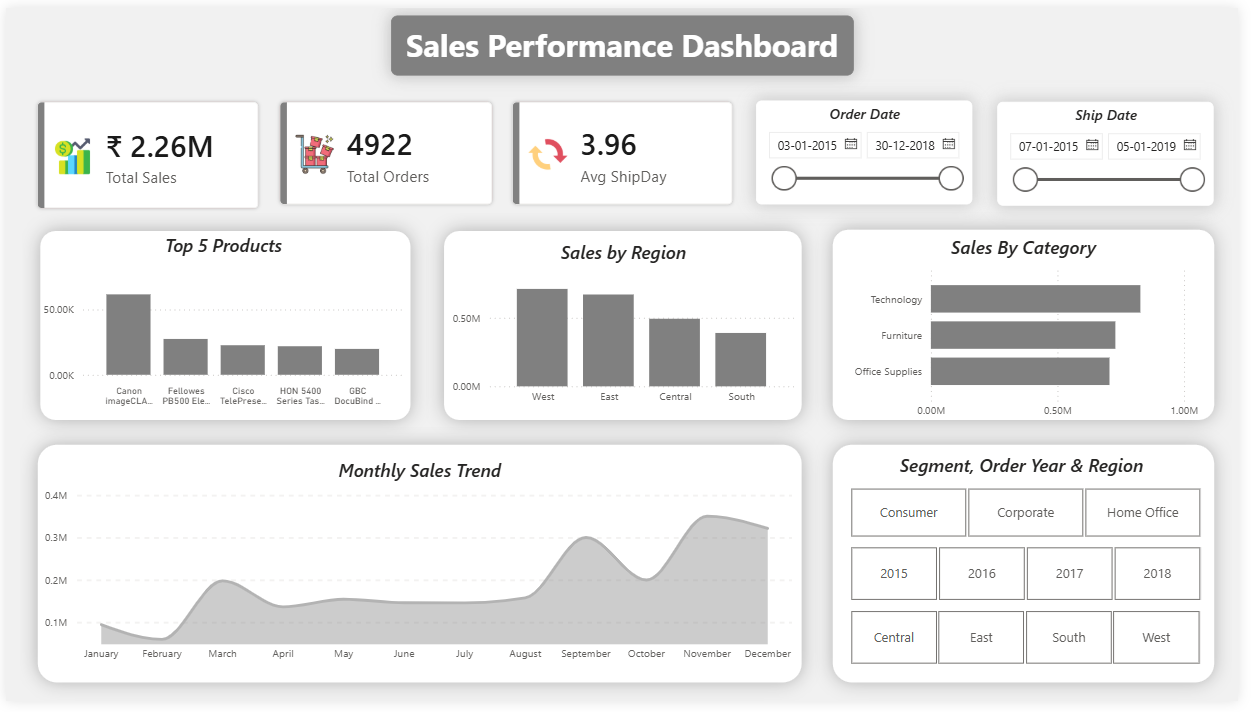

Layout of this report page (visuals, bound fields, positions):
{"tool":"powerbi","page":{"name":"Page 1","canvas":[1280,720],"ordinal":0},"visuals":[{"type":"cardVisual","fields":{"Data":["Superstor_Cleaned_Task1.Total Sales"]},"box":[9.1,74,277.9,158.4],"z":0},{"type":"textbox","box":[400,7.8,480.5,62.3],"z":1000},{"type":"cardVisual","fields":{"Data":["Superstor_Cleaned_Task1.Total Orders"]},"box":[261,74,268.8,154.5],"z":2000},{"type":"cardVisual","fields":{"Data":["Superstor_Cleaned_Task1.Avg ShipDay"]},"box":[502.6,74,276.6,154.5],"z":3000},{"type":"shape","box":[840.3,211.7,433.8,235.1],"z":4000},{"type":"slicer","title":"Order Date","fields":{"Values":["Superstor_Cleaned_Task1.Order Date"]},"box":[779.2,96.1,224.7,107.8],"z":5000},{"type":"slicer","title":"Ship Date","fields":{"Values":["Superstor_Cleaned_Task1.Ship Date"]},"box":[1029.9,97.4,224.7,107.8],"z":6000},{"type":"shape","box":[436.4,213,409.1,233.8],"z":7000},{"type":"shape","box":[16.9,213,422.1,233.8],"z":8000},{"type":"clusteredBarChart","title":"Sales By Category","fields":{"Category":["Superstor_Cleaned_Task1.Category"],"Y":["Sum(Superstor_Cleaned_Task1.Sales)"]},"box":[870.1,227.3,374,214.3],"z":9000},{"type":"shape","box":[14.3,435.1,831.2,284.4],"z":10000},{"type":"columnChart","title":"Sales by Region","fields":{"Category":["Superstor_Cleaned_Task1.Region"],"Y":["Sum(Superstor_Cleaned_Task1.Sales)"]},"box":[458.4,232.5,366.2,194.8],"z":11000},{"type":"columnChart","title":"Top 5 Products","fields":{"Category":["Superstor_Cleaned_Task1.Product Name"],"Y":["Sum(Superstor_Cleaned_Task1.Sales)"]},"box":[33.8,226,384.4,201.3],"z":12000},{"type":"lineChart","title":"Monthly Sales Trend","fields":{"Y":["Sum(Superstor_Cleaned_Task1.Sales)"],"Category":["Superstor_Cleaned_Task1.Order Date.Variation.Date Hierarchy.Month"]},"box":[35.1,461,789.6,231.2],"z":13000},{"type":"shape","box":[840.3,435.1,433.8,284.4],"z":14000},{"type":"slicer","fields":{"Values":["Superstor_Cleaned_Task1.Segment"]},"box":[851.9,492.2,413,63.6],"z":15000},{"type":"slicer","fields":{"Values":["Superstor_Cleaned_Task1.Order Year"]},"box":[851.9,553.2,413,68.8],"z":16000},{"type":"slicer","fields":{"Values":["Superstor_Cleaned_Task1.Region"]},"box":[851.9,619.5,411.7,68.8],"z":17000},{"type":"textbox","box":[914.3,457.1,281.8,35.1],"z":18000}]}

Visuals, with their boxes in screenshot pixels (x1, y1, x2, y2), scaled from the page's 1280x720 canvas onto the 1260x712 screenshot:
cardVisual - Superstor_Cleaned_Task1.Total Sales: box=[9, 73, 283, 230]
textbox: box=[394, 8, 867, 69]
cardVisual - Superstor_Cleaned_Task1.Total Orders: box=[257, 73, 522, 226]
cardVisual - Superstor_Cleaned_Task1.Avg ShipDay: box=[495, 73, 767, 226]
shape: box=[827, 209, 1254, 442]
"Order Date" slicer: box=[767, 95, 988, 202]
"Ship Date" slicer: box=[1014, 96, 1235, 203]
shape: box=[430, 211, 832, 442]
shape: box=[17, 211, 432, 442]
"Sales By Category" clusteredBarChart: box=[857, 225, 1225, 437]
shape: box=[14, 430, 832, 711]
"Sales by Region" columnChart: box=[451, 230, 812, 423]
"Top 5 Products" columnChart: box=[33, 223, 412, 423]
"Monthly Sales Trend" lineChart: box=[35, 456, 812, 685]
shape: box=[827, 430, 1254, 711]
slicer - Superstor_Cleaned_Task1.Segment: box=[839, 487, 1245, 550]
slicer - Superstor_Cleaned_Task1.Order Year: box=[839, 547, 1245, 615]
slicer - Superstor_Cleaned_Task1.Region: box=[839, 613, 1244, 681]
textbox: box=[900, 452, 1177, 487]
